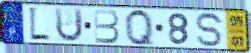8: (167, 11, 191, 46)
B: (93, 9, 121, 45)
L: (27, 5, 51, 43)
Q: (123, 7, 157, 48)
S: (194, 11, 225, 49)
U: (53, 7, 85, 44)
